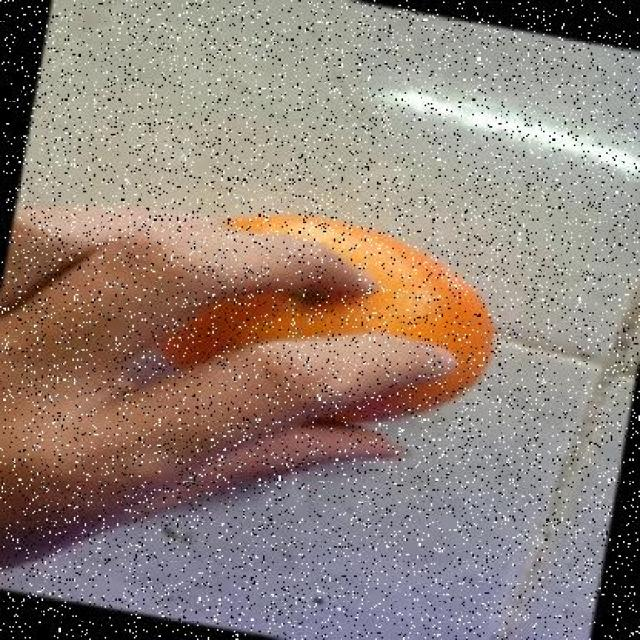Orange: (152, 209, 497, 425)
